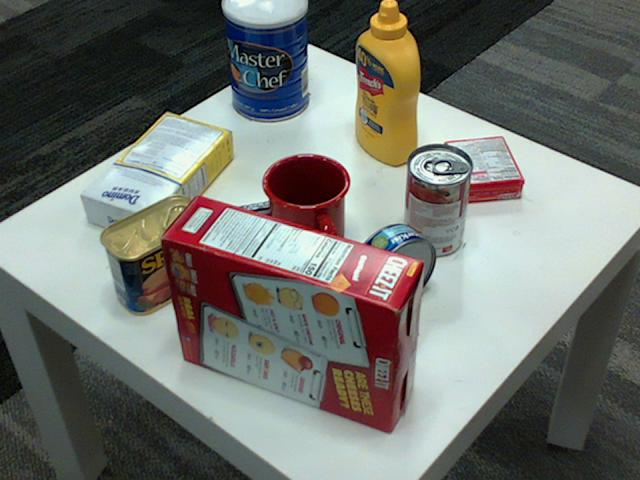cracker_box: (159, 194, 421, 430)
gelatin_box: (444, 136, 526, 201)
large_marker: (201, 194, 308, 232)
master_chef_can: (220, 0, 307, 121)
mug: (262, 150, 351, 257)
mustard_bottle: (355, 0, 418, 165)
potted_meat_can: (100, 194, 208, 315)
sugar_box: (81, 110, 234, 240)
tomato_soup_can: (402, 143, 471, 256)
tuna_fish_can: (350, 222, 436, 310)
